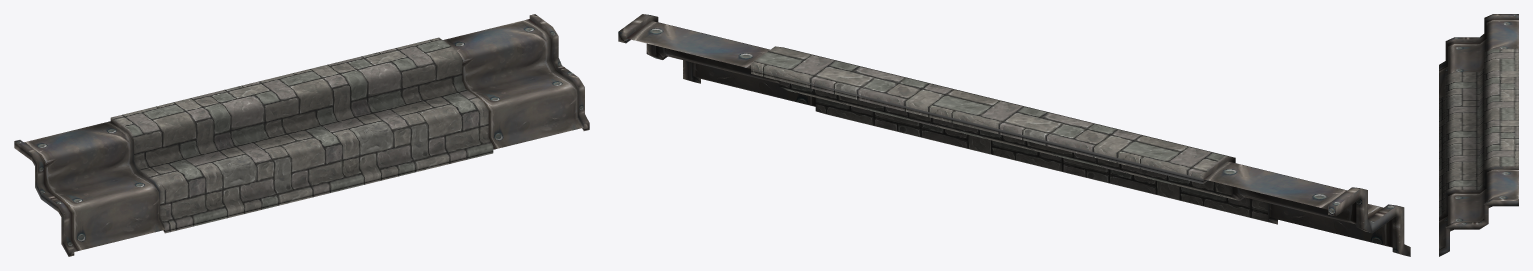
The model's file is Path3.fbx.
3 renders of one model, left to right at view 1: azimuth 30°, elevation 25°; view 2: azimuth 150°, elevation 25°; view 3: azimuth 270°, elevation 25°, orthographic. The views are drawn at different scales.
Parts seen in each view (by area): view 1: Cube_003; view 2: Cube_003; view 3: Cube_003.
Boxes of the visible parts, <box> form: Cube_003: <box>14,14,589,256</box>; Cube_003: <box>618,14,1410,256</box>; Cube_003: <box>1439,14,1518,256</box>.
Bounding box in the file's own units: 9.36 × 1.31 × 1.69.
